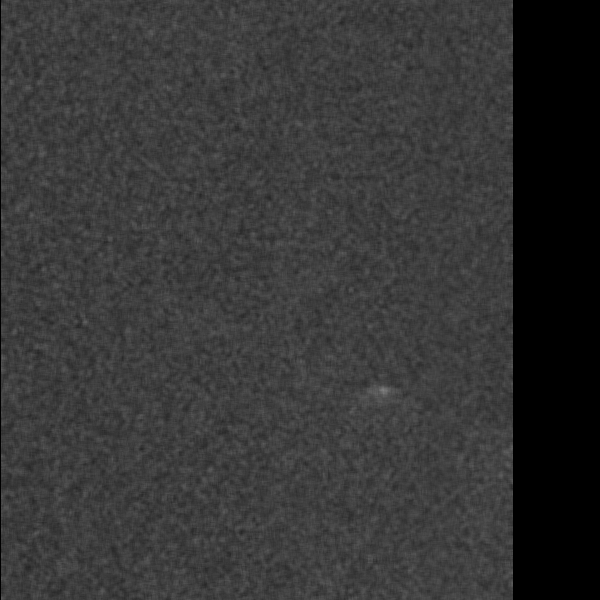spark: (371, 377, 394, 407)
